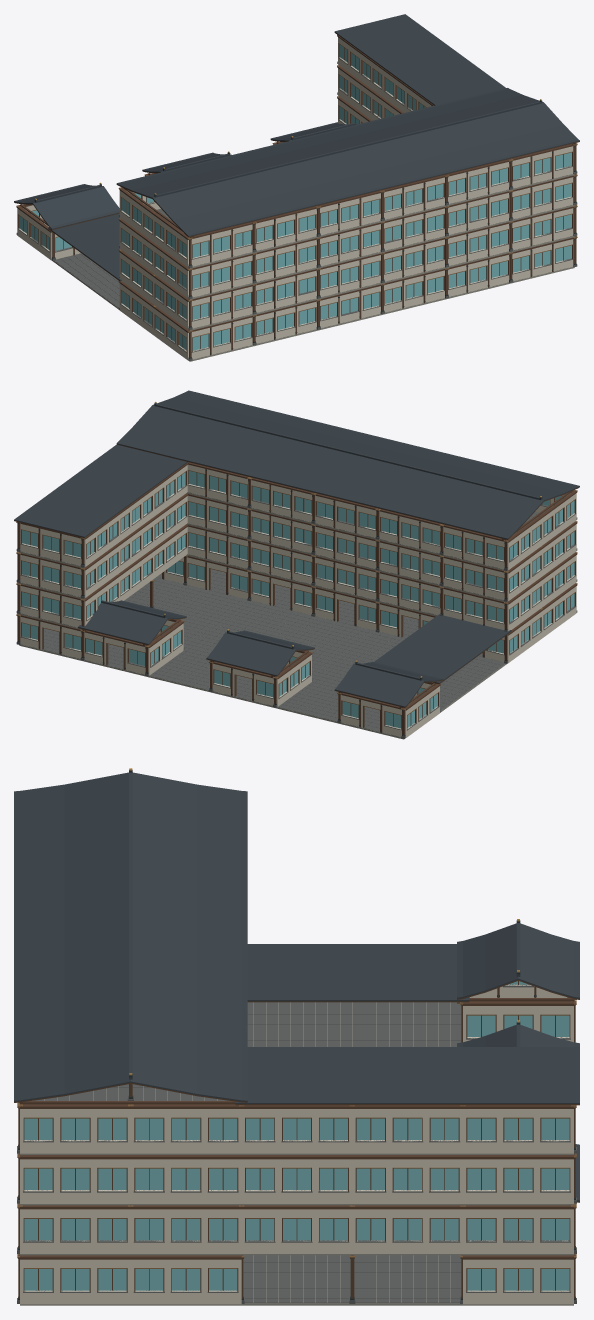
File: visual-far.glb
The picture shows the model from 3 angles, top to bottom: view 1: azimuth 30°, elevation 25°; view 2: azimuth 150°, elevation 25°; view 3: azimuth 270°, elevation 25°; orthographic projection. The views are drawn at different scales.
Parts seen in each view (by area): view 1: 参数墙 · 独立窗玻璃 (×38), 连续屋面 · gable (×4), 连续屋面 · flat (×2), 石铺面与混凝土楼板 (×2); view 2: 参数墙 · 独立窗玻璃 (×38), 连续屋面 · gable (×4), 石铺面与混凝土楼板 (×17), 连续屋面 · flat (×2), 参数墙 · 通行门洞 (×8); view 3: 参数墙 · 独立窗玻璃 (×20), 连续屋面 · gable (×3), 连续屋面 · flat (×2), 石铺面与混凝土楼板 (×6).
Part boxes in pixels (x1,y1,x2,y2): 参数墙 · 独立窗玻璃 (×38): (16, 35, 574, 360); 连续屋面 · gable (×4): (14, 88, 579, 237); 连续屋面 · flat (×2): (48, 14, 505, 281); 石铺面与混凝土楼板 (×2): (53, 253, 119, 309); 参数墙 · 独立窗玻璃 (×38): (20, 462, 577, 737); 连续屋面 · gable (×4): (78, 390, 579, 708); 石铺面与混凝土楼板 (×17): (19, 577, 506, 739); 连续屋面 · flat (×2): (14, 444, 511, 684); 参数墙 · 通行门洞 (×8): (19, 556, 435, 736); 参数墙 · 独立窗玻璃 (×20): (20, 981, 573, 1304); 连续屋面 · gable (×3): (14, 768, 579, 1104); 连续屋面 · flat (×2): (235, 944, 579, 1105); 石铺面与混凝土楼板 (×6): (32, 1002, 462, 1305).
Size of the model in its own units: 47.6 by 16.68 by 36.8.
14 materials, 14 textured.
